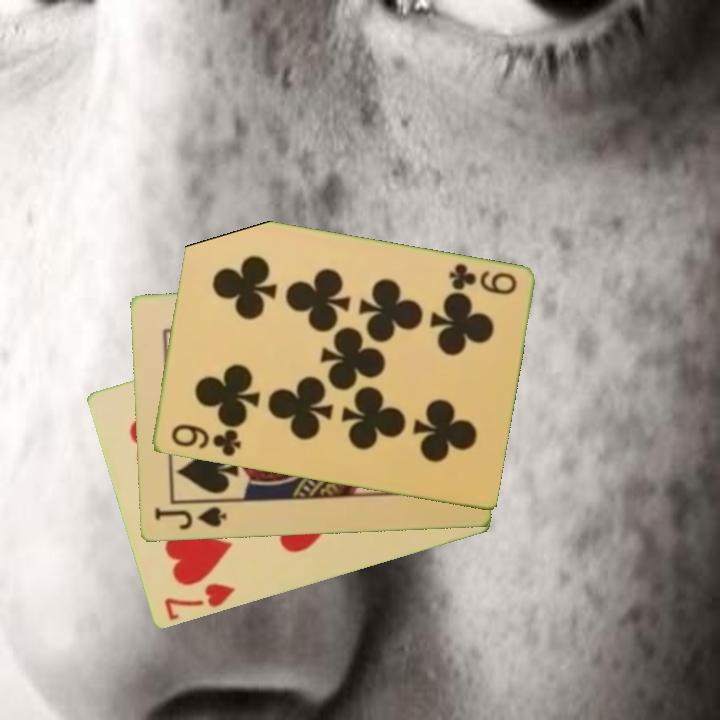7h: (160, 580, 238, 624)
9c: (167, 420, 244, 460), (445, 260, 520, 298)
Js: (151, 504, 229, 533)
